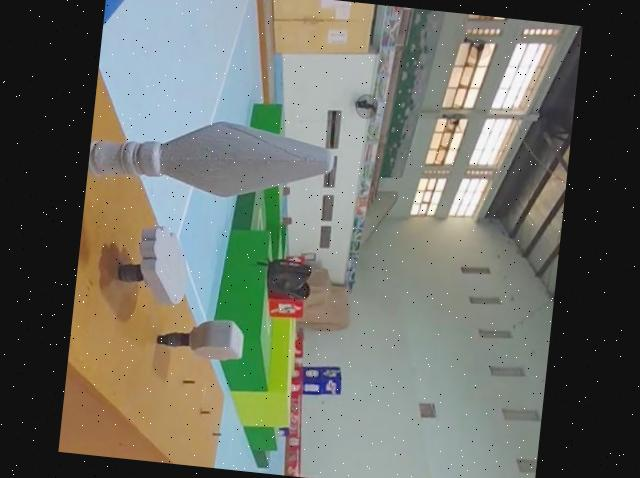Fist: (154, 313, 249, 367)
Hand: (109, 222, 194, 308)
Sph: (85, 110, 344, 215)
